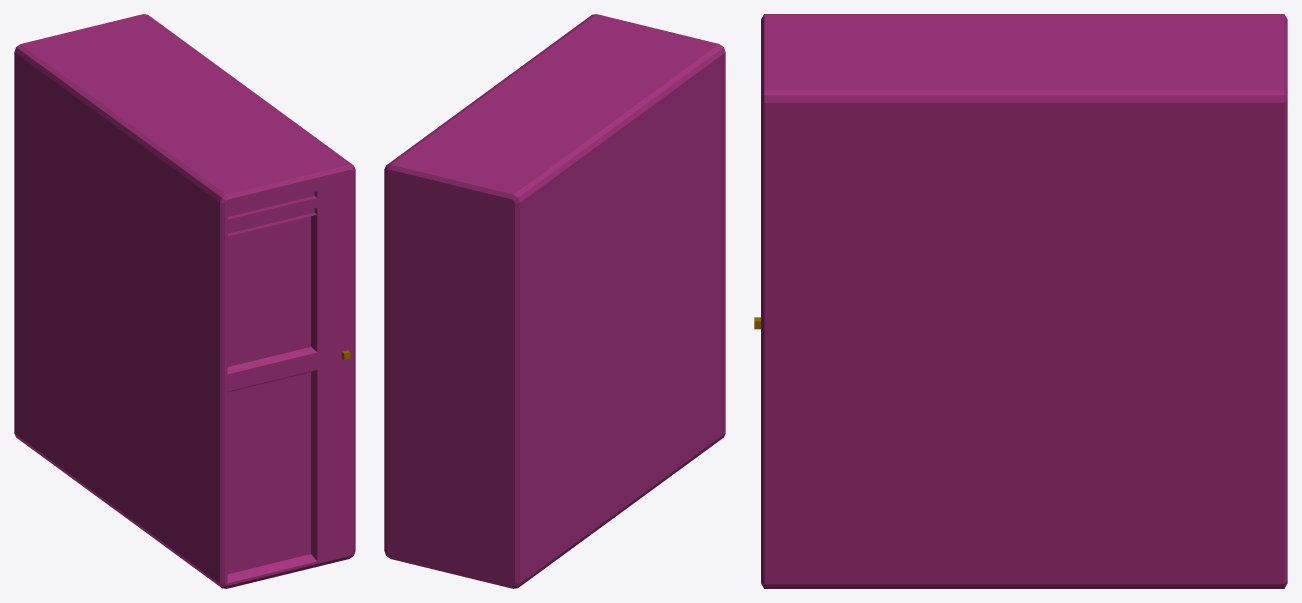
The model's file is NewComputer.fbx.
3 renders of one model, left to right at view 1: azimuth 30°, elevation 25°; view 2: azimuth 150°, elevation 25°; view 3: azimuth 270°, elevation 25°, orthographic. The views are drawn at different scales.
Visible parts, largest first — view 1: Computer; view 2: Computer; view 3: Computer.
Part boxes in pixels (x1,y1,x2,y2): Computer: (14, 14, 355, 588); Computer: (384, 14, 725, 588); Computer: (754, 14, 1287, 588).
Size of the model in its own units: 561 by 1556 by 1509.
